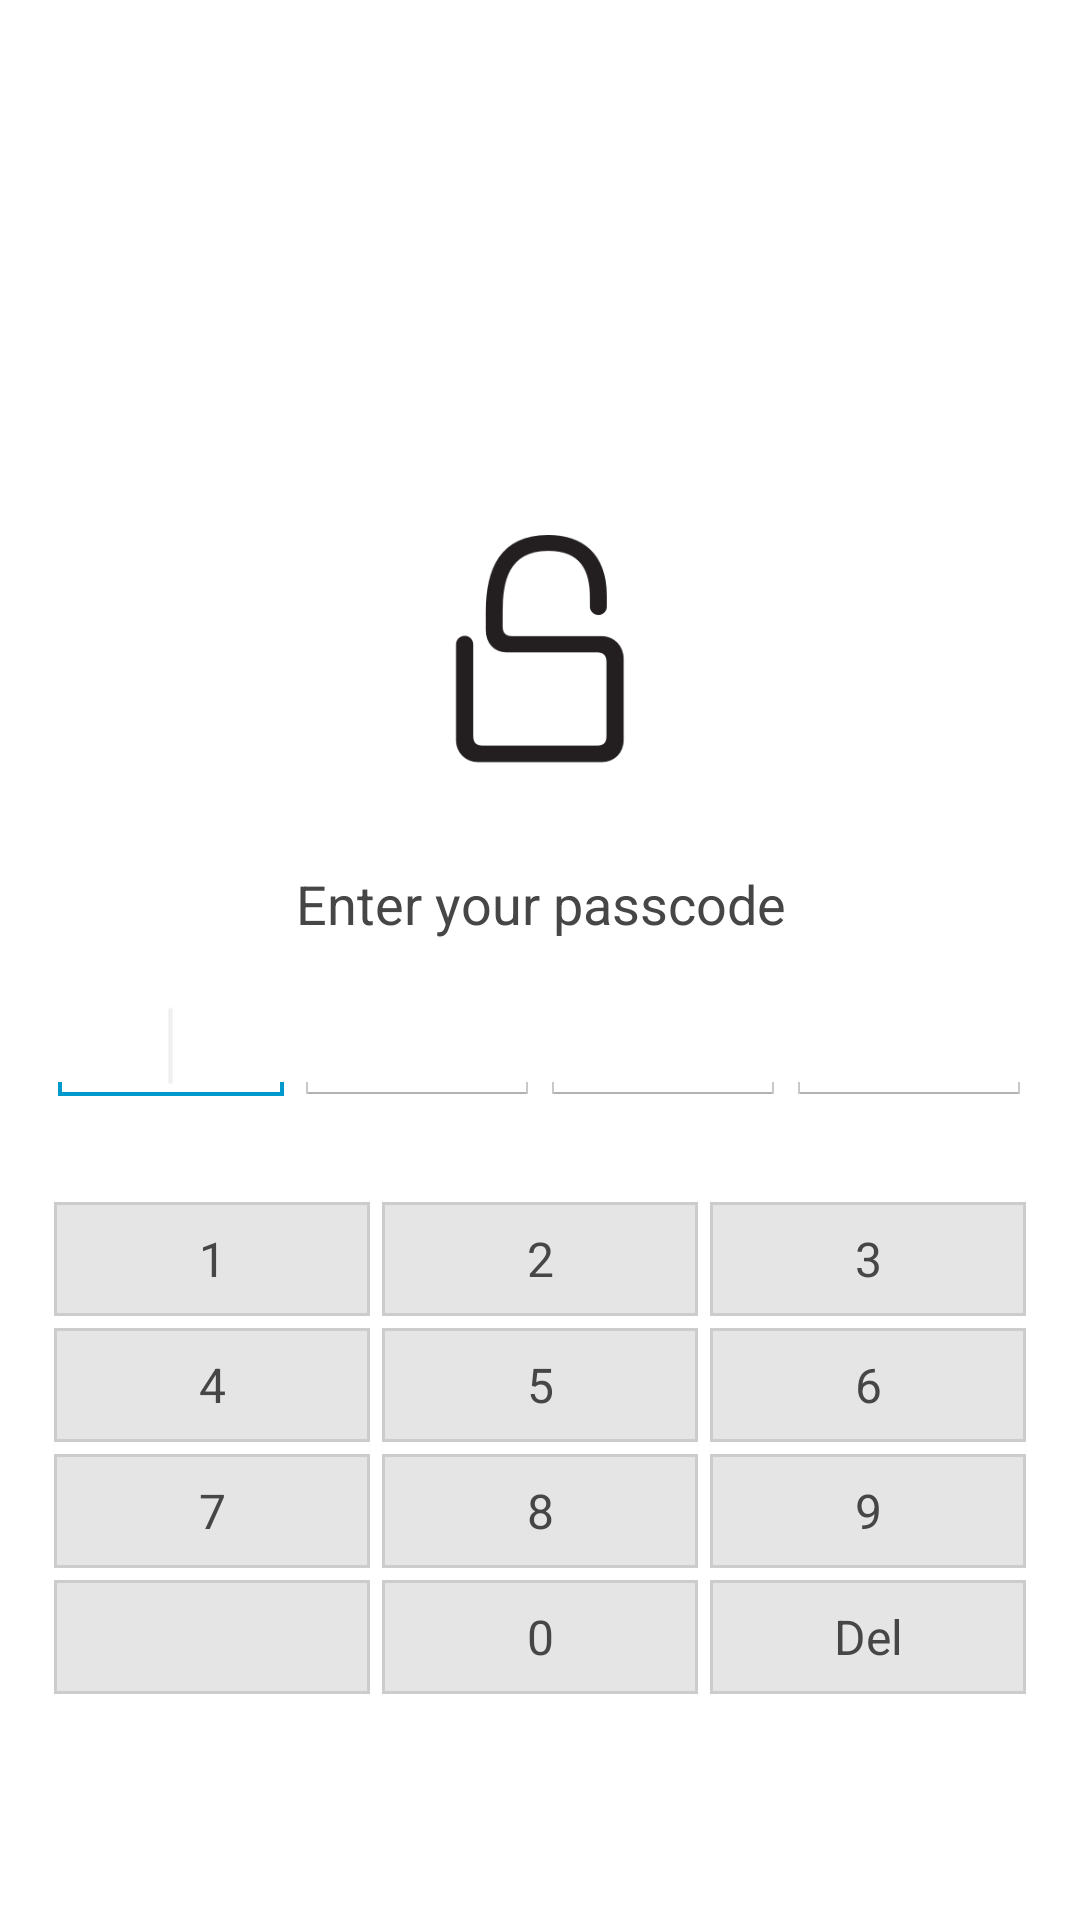

Named icons in this screenshot (1080 x 1920) and their bounding boxes, (x1, y1, x2, y2):
lockpad: (455, 535, 624, 763)
